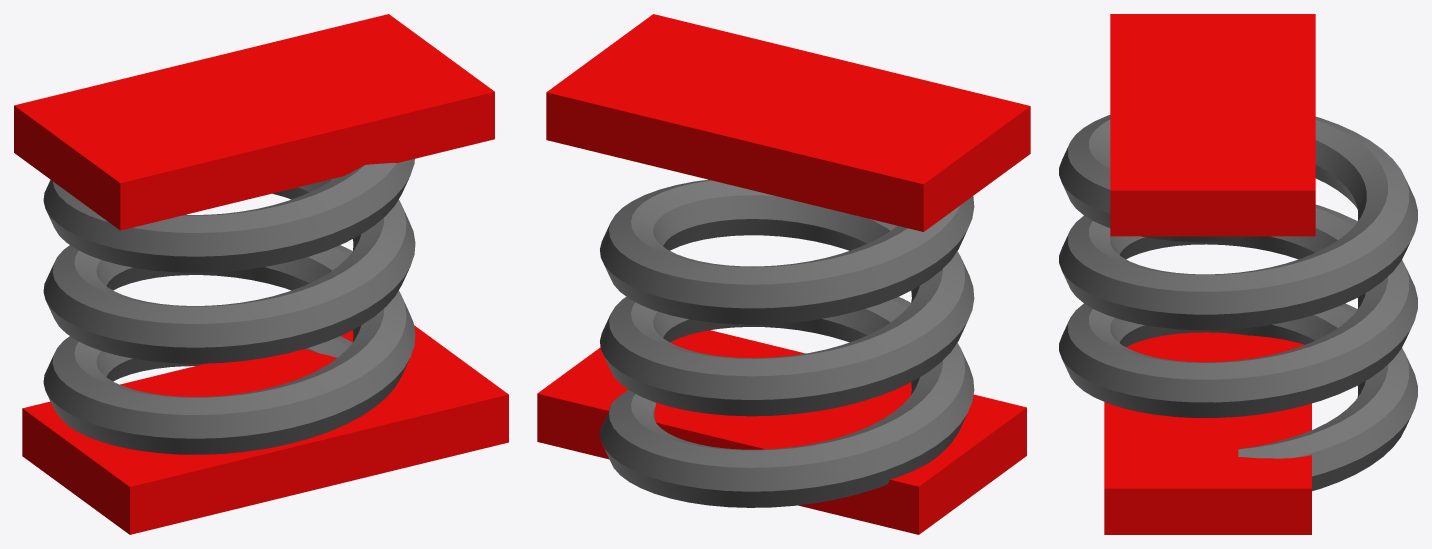
The model's file is jumpramp2.fbx.
3 views of the same model, side by side, from view 1: azimuth 30°, elevation 25°; view 2: azimuth 150°, elevation 25°; view 3: azimuth 270°, elevation 25° (orthographic). The views are drawn at different scales.
Parts seen in each view (by area): view 1: polySurface4; view 2: polySurface4; view 3: polySurface4.
Boxes of the visible parts, bbox=[...] form: polySurface4: bbox=[14, 14, 508, 534]; polySurface4: bbox=[537, 14, 1030, 534]; polySurface4: bbox=[1059, 14, 1417, 534].
Size of the model in its own units: 3.26 by 2.88 by 2.72.
